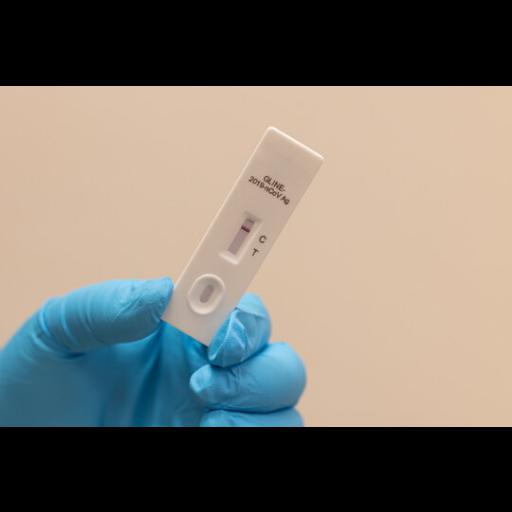Neg: (156, 124, 325, 346)
